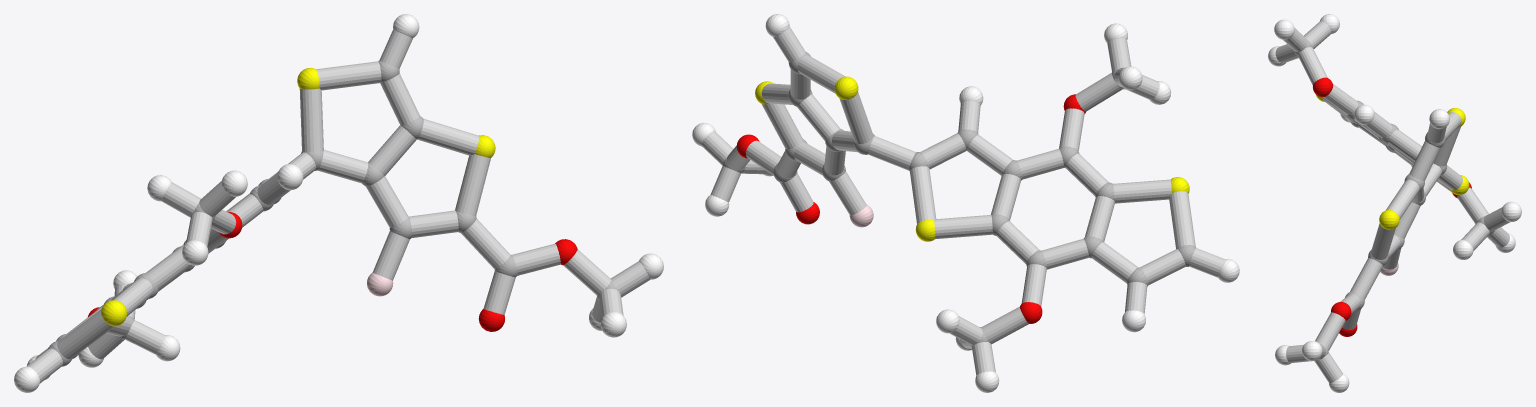
Rendered from color.glb.
The picture shows the model from 3 angles, left to right: view 1: azimuth 30°, elevation 25°; view 2: azimuth 150°, elevation 25°; view 3: azimuth 270°, elevation 25°; orthographic projection. The views are drawn at different scales.
Visible parts, largest first — view 1: grp15205, grp8689, grp1, grp7241, grp13395; view 2: grp15205, grp8689, grp1, grp7241, grp13395; view 3: grp15205, grp8689, grp1, grp13395, grp7241.
Boxes of the visible parts, box(x1,y1,x2,y2) form: grp15205: box(26, 29, 650, 383); grp8689: box(14, 14, 663, 392); grp1: box(48, 60, 621, 366); grp7241: box(101, 68, 495, 326); grp13395: box(88, 212, 577, 331); grp15205: box(701, 27, 1224, 375); grp8689: box(692, 14, 1239, 392); grp1: box(722, 52, 1196, 346); grp7241: box(755, 76, 1189, 241); grp13395: box(736, 94, 1085, 323); grp15205: box(1275, 21, 1510, 382); grp8689: box(1268, 14, 1521, 392); grp1: box(1293, 40, 1494, 361); grp13395: box(1313, 77, 1471, 336); grp7241: box(1316, 94, 1469, 229).
Bounding box in the file's own units: 16.29 × 7.91 × 7.42.
